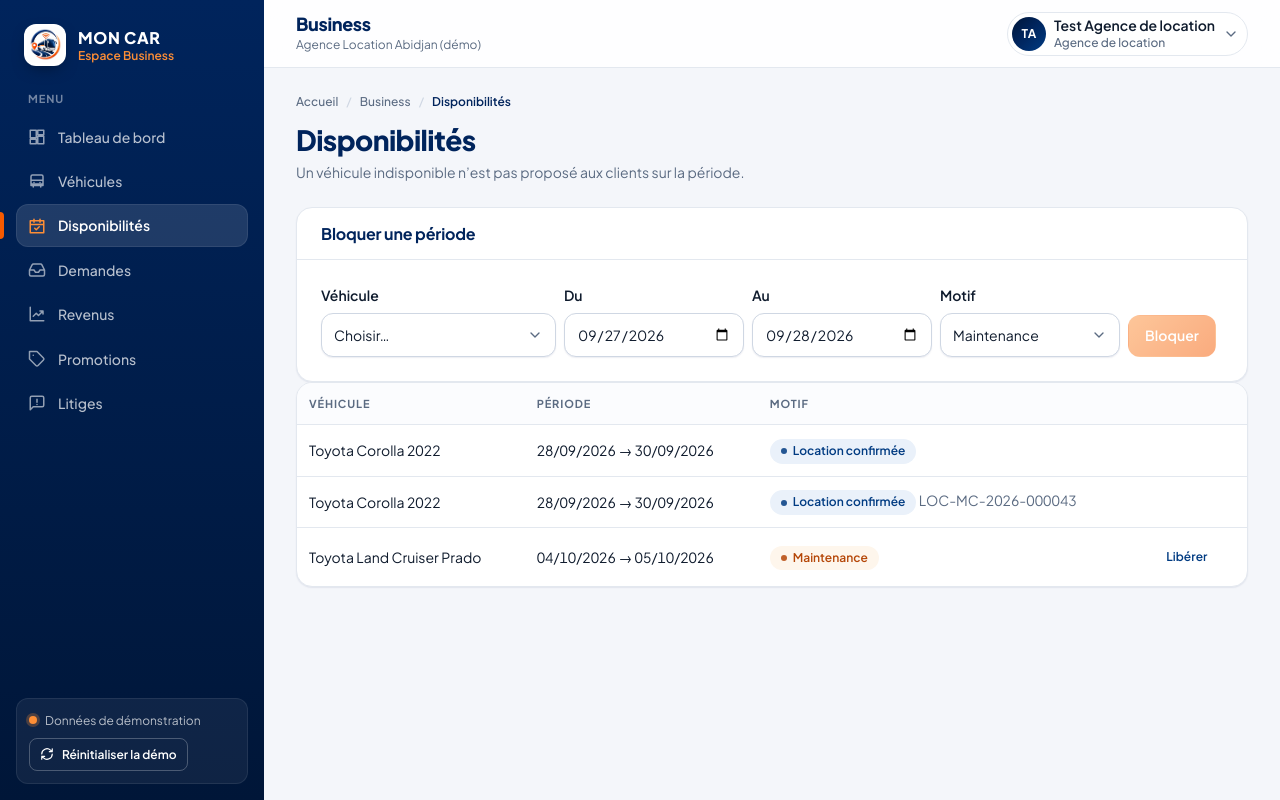
Test: Espace BUSINESS — location et VTC › bloque une période de maintenance
This screenshot has width=1280, height=800.
Select "Hyundai Tucson" in the dropdown labelled "Véhicule": (438, 335) [321, 313, 556, 357]
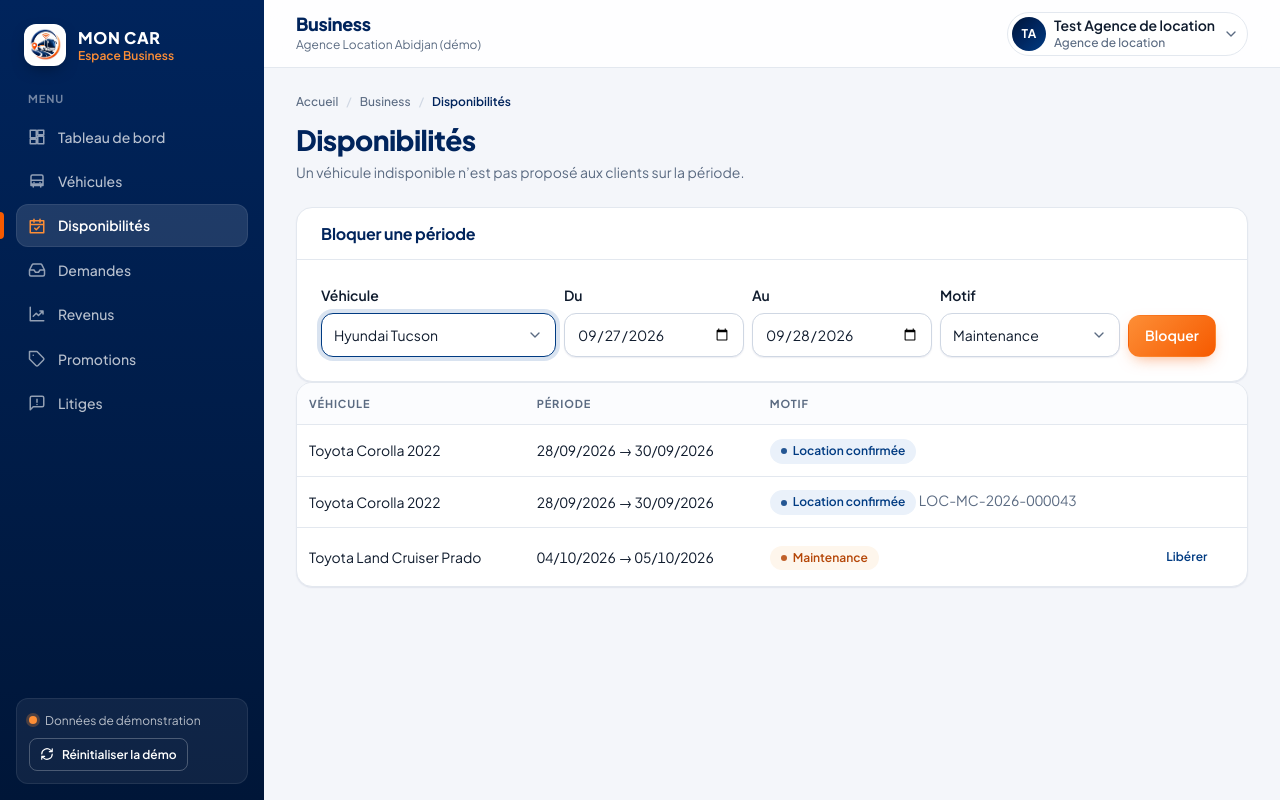
Click the button "Bloquer": (1172, 336) [1128, 315, 1216, 357]
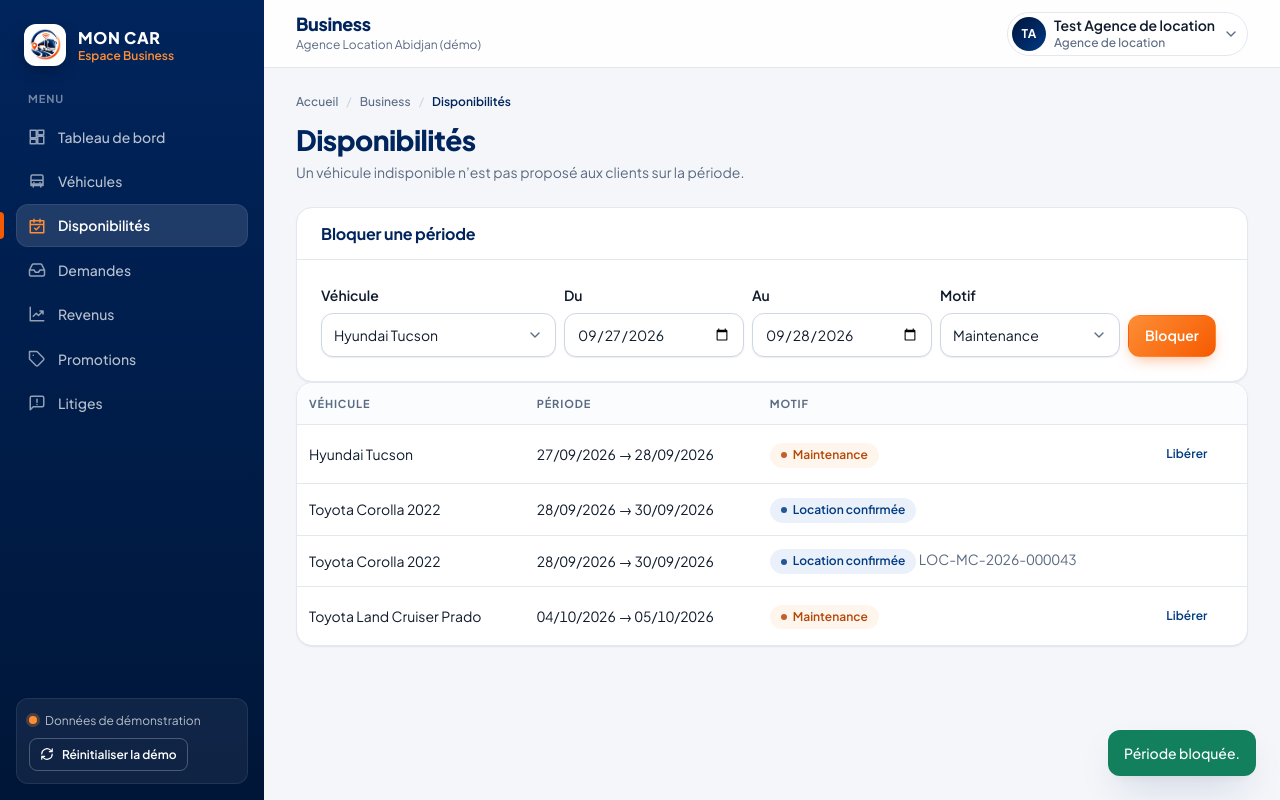
Now the text "Période bloquée." is shown, box [1108, 730, 1256, 776]
